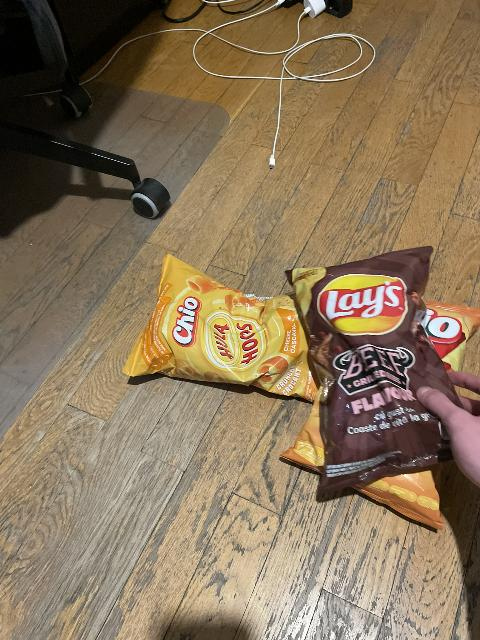Chio Cascaval 125g: (280, 296, 480, 532)
Chio Hula Hoops Cheese 70g: (123, 255, 320, 403)
Lays Beef Grilled Ribs 125g: (286, 245, 467, 496)
